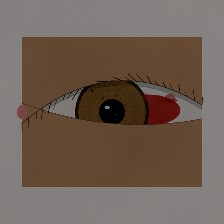hemorrhage_spot: (101, 74, 193, 147)
